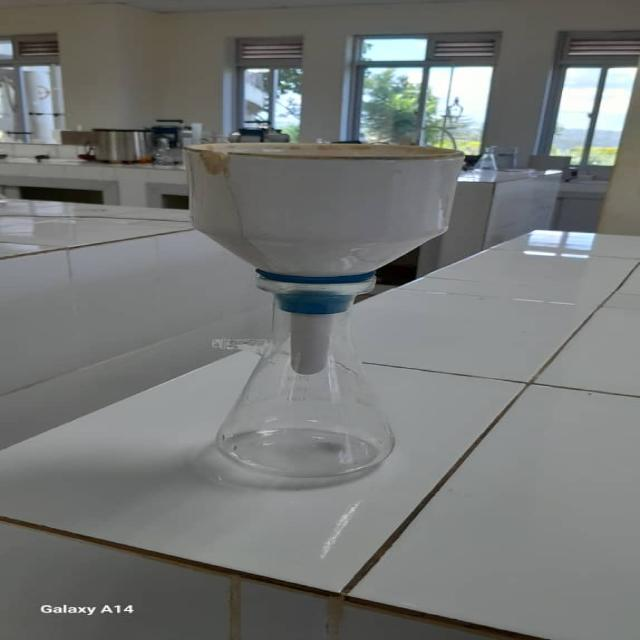Bunchen funnel: (152, 138, 492, 378)
